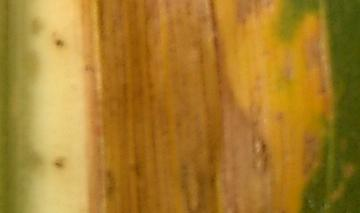tarspot: (54, 36, 64, 50)
